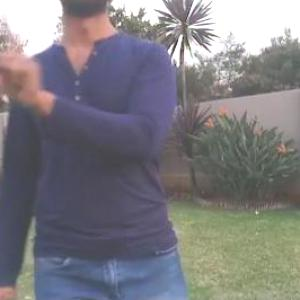land_hand: (1, 5, 50, 106)
